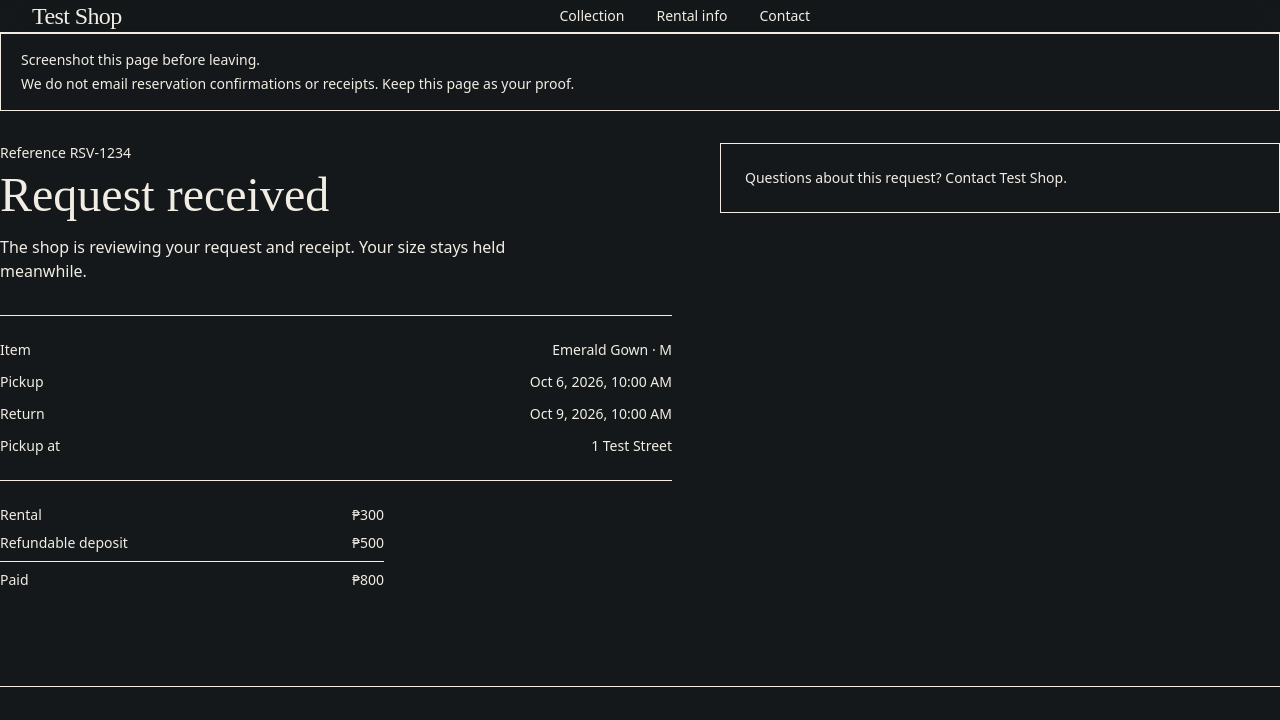
Scenario: reservation proof page › guards header navigation before the animated storefront transition can navigate
The width and height of the screenshot is (1280, 720).
expect the text "Screenshot this page before leaving." is shown: met, box x1=21 y1=50 x2=260 y2=69
Click the link "Collection". click: (592, 16)
box: x1=560 y1=6 x2=624 y2=26
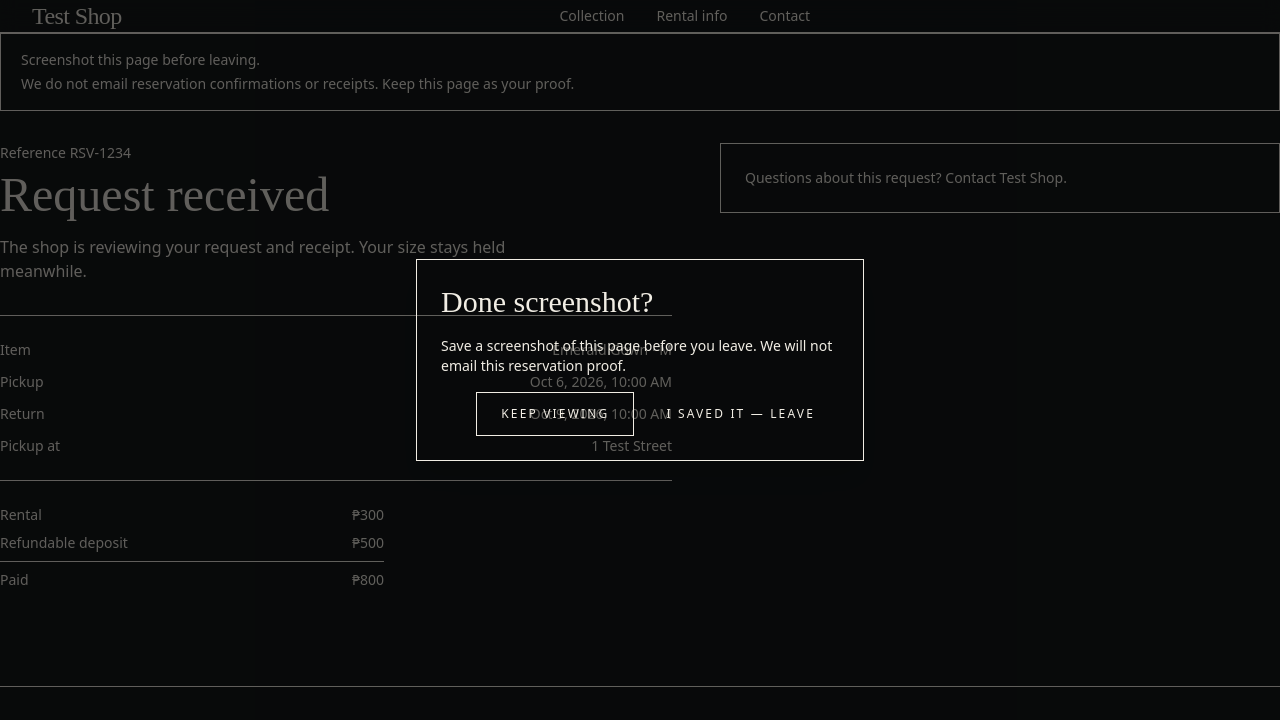
expect the dialog "Done screenshot?" is shown: met, box x1=416 y1=259 x2=864 y2=461
